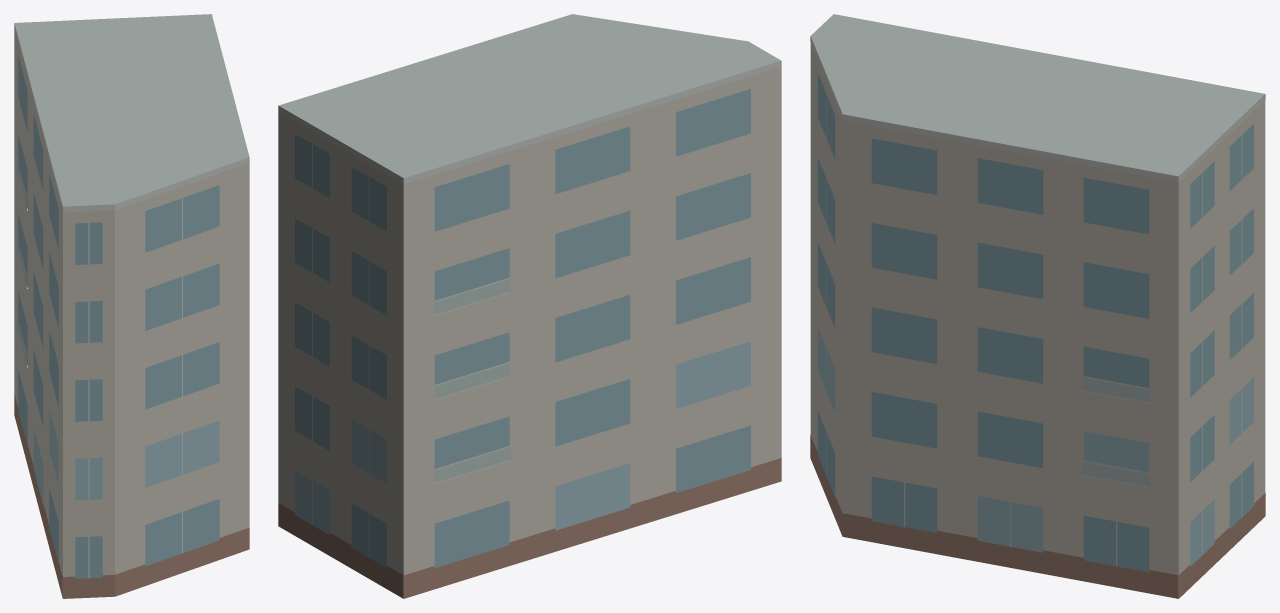
The model's file is survey-upis-32532945.glb.
The picture shows the model from 3 angles, left to right: view 1: azimuth 30°, elevation 25°; view 2: azimuth 150°, elevation 25°; view 3: azimuth 270°, elevation 25°; orthographic projection. The views are drawn at different scales.
Parts seen in each view (by area): view 1: survey-upis-32532945.tmp; view 2: survey-upis-32532945.tmp; view 3: survey-upis-32532945.tmp.
Part boxes in pixels (box(x1,y1,x2,y2)): survey-upis-32532945.tmp: box(14, 14, 249, 598); survey-upis-32532945.tmp: box(278, 14, 781, 598); survey-upis-32532945.tmp: box(810, 14, 1265, 598).
Size of the model in its own units: 13.66 by 16.56 by 16.17.
